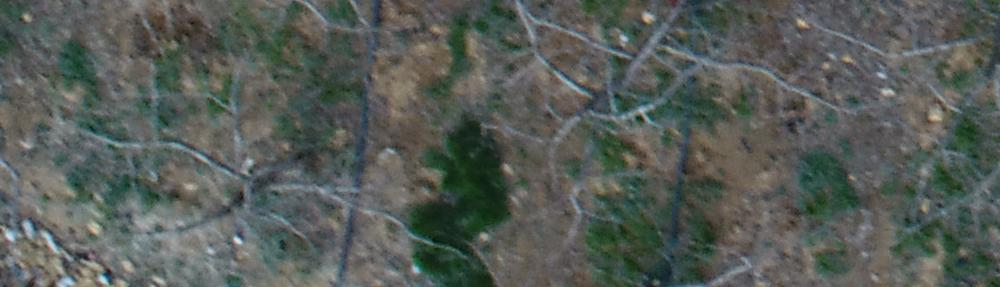apple: (449, 10, 877, 245), (56, 51, 450, 277)
